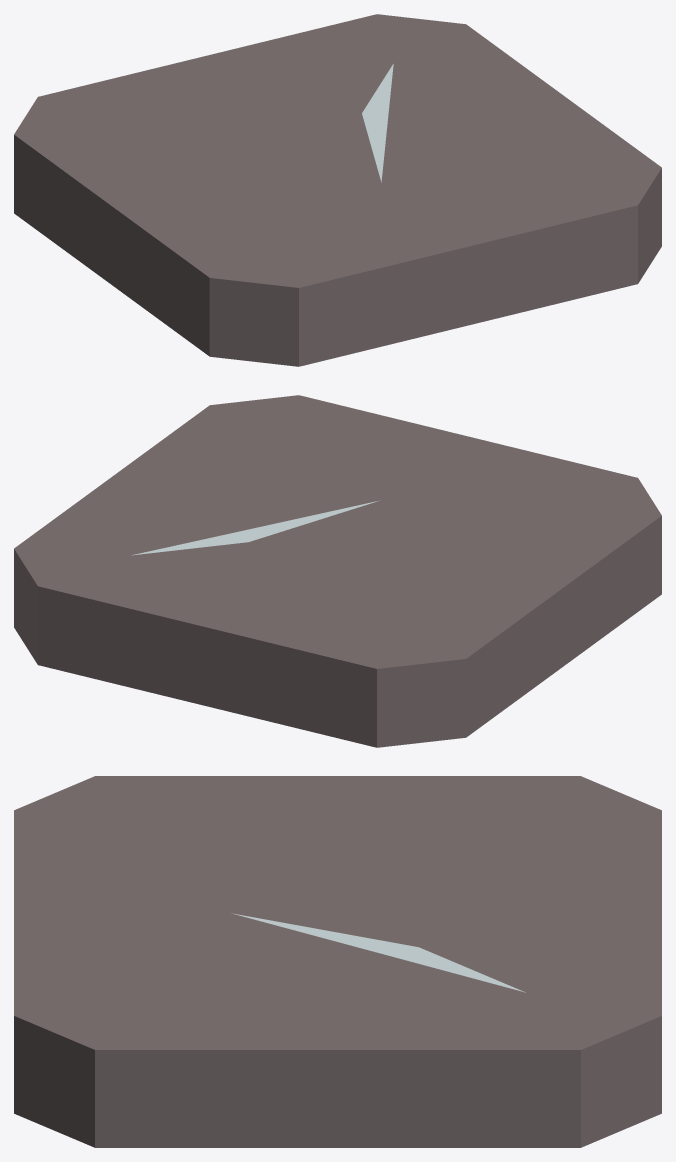
Rendered from teleport-tablets.gltf.
3 views of the same model, one above another, from view 1: azimuth 30°, elevation 25°; view 2: azimuth 150°, elevation 25°; view 3: azimuth 270°, elevation 25° (orthographic). The views are drawn at different scales.
Bounding box in the file's own units: 24 × 4 × 24.
Materials: 1 (1 with a texture image).
